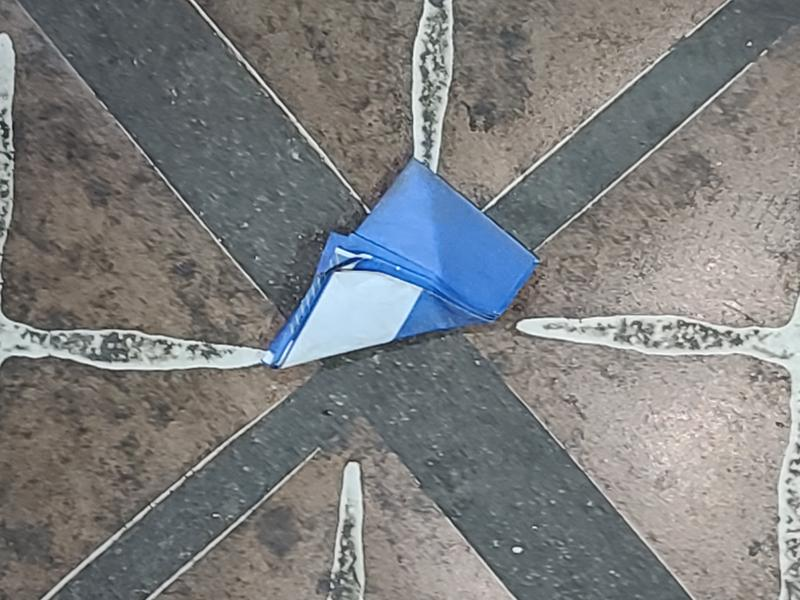papel: (267, 158, 539, 368)
